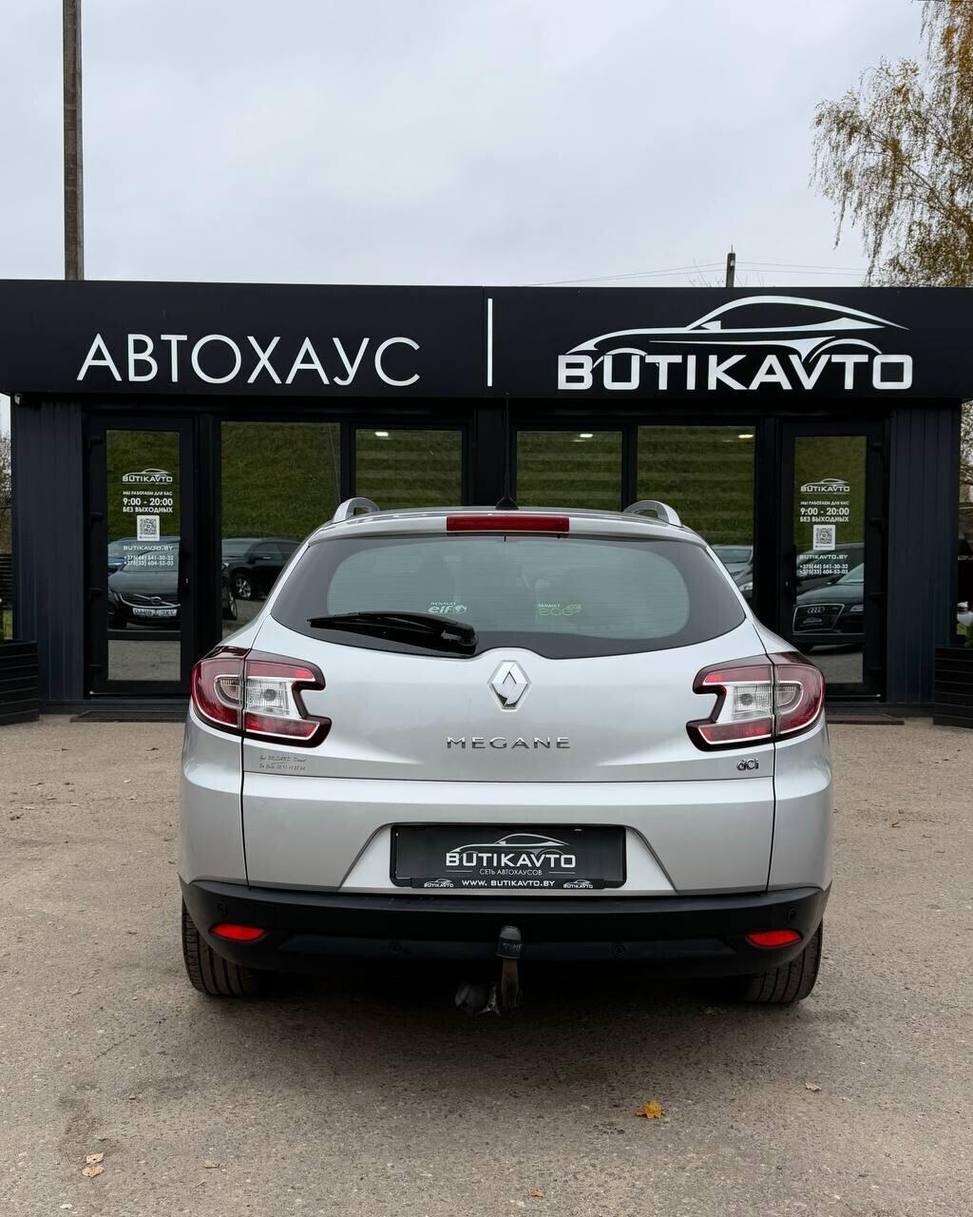Megane_2012-2014: (184, 491, 843, 1021)
